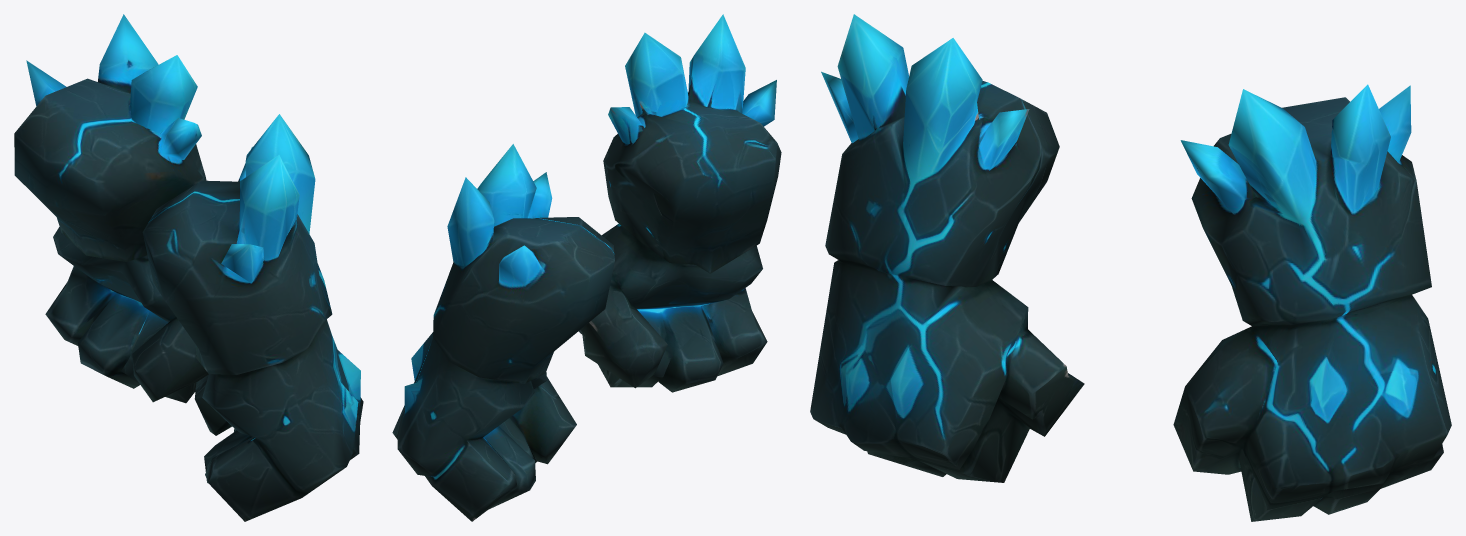
Rendered from Arma_boss.fbx.
The picture shows the model from 3 angles, left to right: view 1: azimuth 30°, elevation 25°; view 2: azimuth 150°, elevation 25°; view 3: azimuth 270°, elevation 25°; orthographic projection. The views are drawn at different scales.
Visible parts, largest first — view 1: tripo_node_b2ecc23b; view 2: tripo_node_b2ecc23b; view 3: tripo_node_b2ecc23b.
Boxes of the visible parts, x1,y1,x2,y2 form: tripo_node_b2ecc23b: (14, 14, 363, 521); tripo_node_b2ecc23b: (392, 14, 781, 521); tripo_node_b2ecc23b: (810, 14, 1451, 521).
Size of the model in its own units: 51.64 by 80.98 by 99.98.
Materials: 1 (1 with a texture image).
